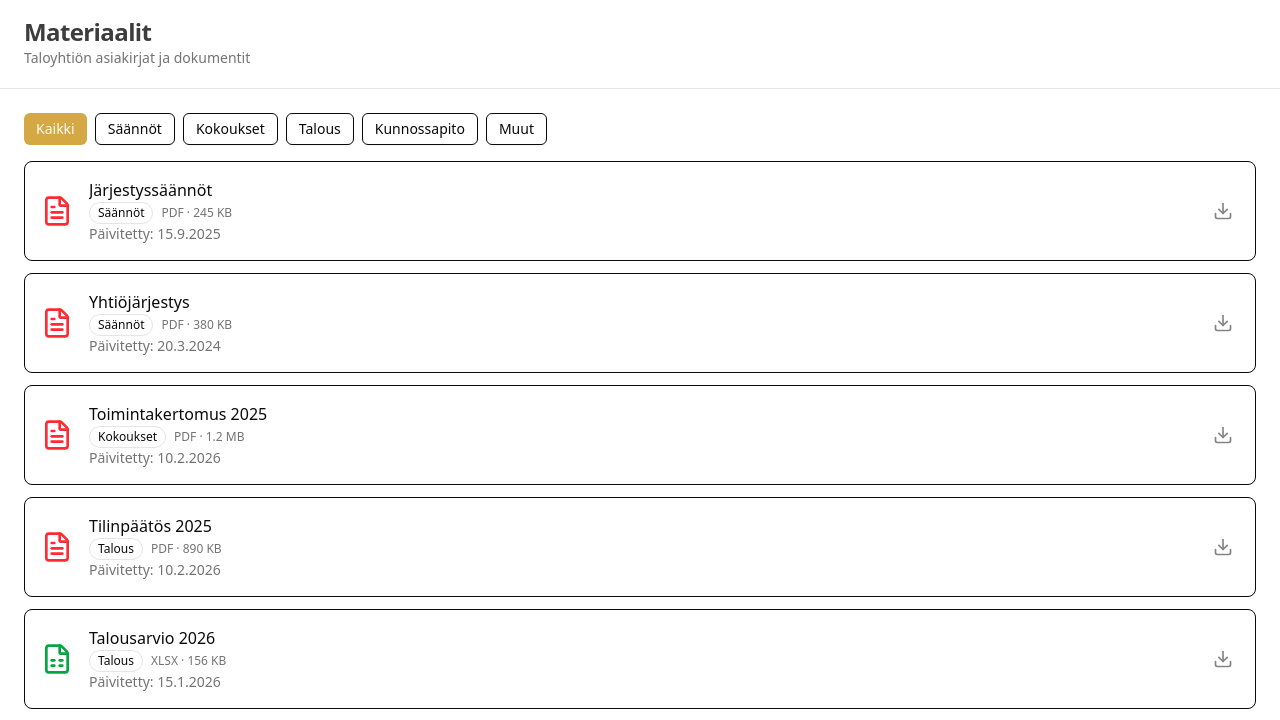
Test case: MaterialsPage › filters by category
Check: the text "Järjestyssäännöt" is shown, box x1=89 y1=179 x2=212 y2=201
Click the button "Talous": (320,129) x1=286 y1=113 x2=354 y2=145
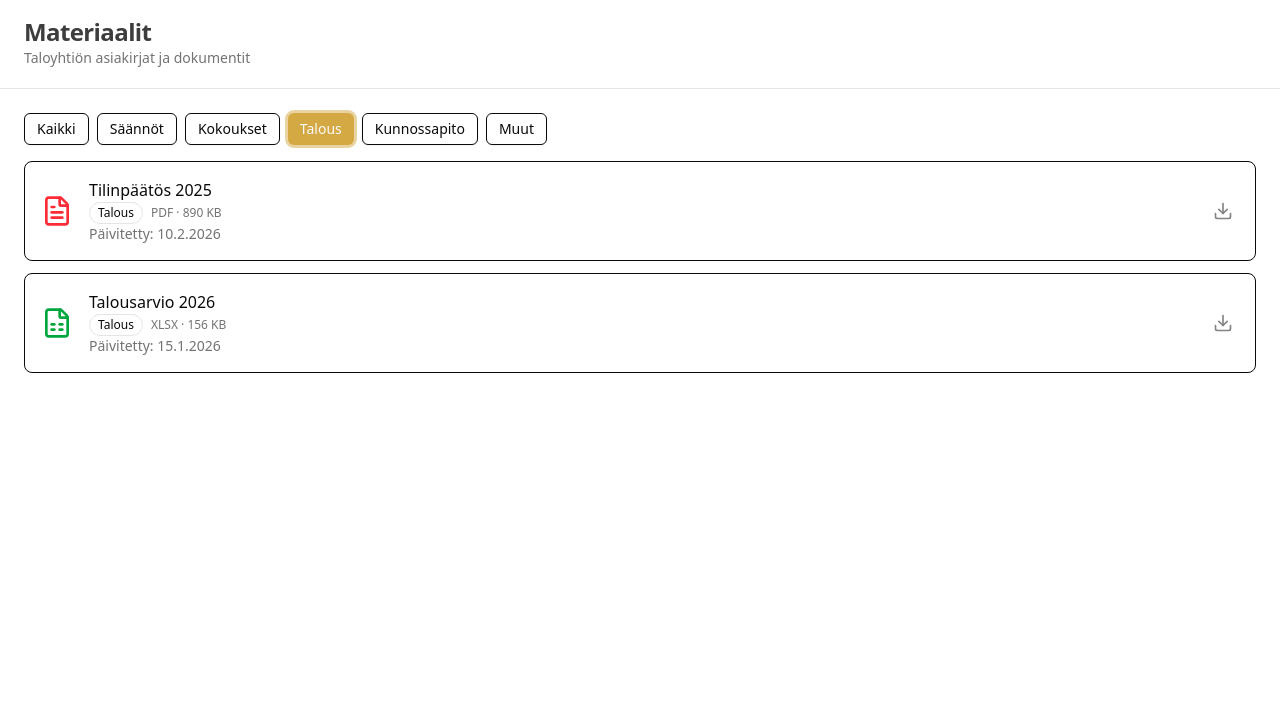
Check: the text "Tilinpäätös 2025" is shown, box x1=89 y1=179 x2=212 y2=201
Check: the text "Järjestyssäännöt" is gone
